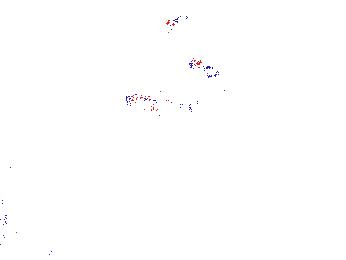X-ray fish: (1, 138, 21, 171)
red belly glassfish: (119, 90, 202, 116), (187, 57, 227, 76), (164, 13, 190, 31)
